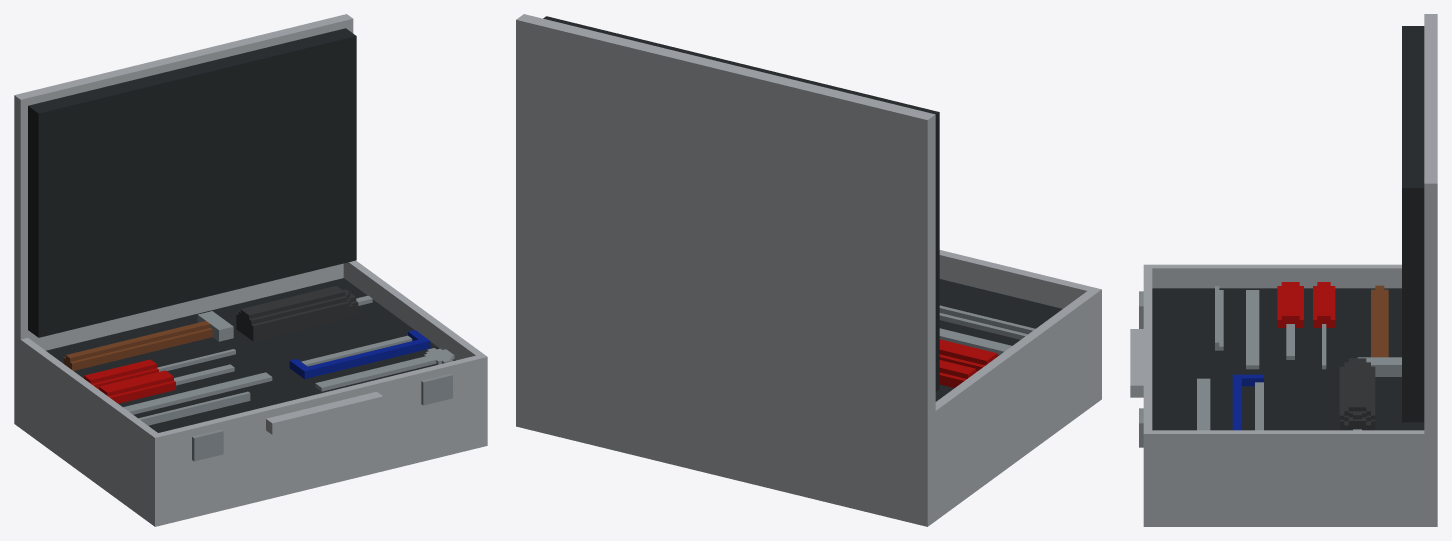
The model's file is large_repairkit.glb.
The picture shows the model from 3 angles, left to right: view 1: azimuth 30°, elevation 25°; view 2: azimuth 150°, elevation 25°; view 3: azimuth 270°, elevation 25°; orthographic projection. The views are drawn at different scales.
Visible parts, largest first — view 1: large_repairkit:compound; view 2: large_repairkit:compound; view 3: large_repairkit:compound.
Part boxes in pixels (x1,y1,x2,y2): large_repairkit:compound: (14,14,487,526); large_repairkit:compound: (516,14,1101,526); large_repairkit:compound: (1130,14,1437,526).
Size of the model in its own units: 0.36 by 0.34 by 0.276.
